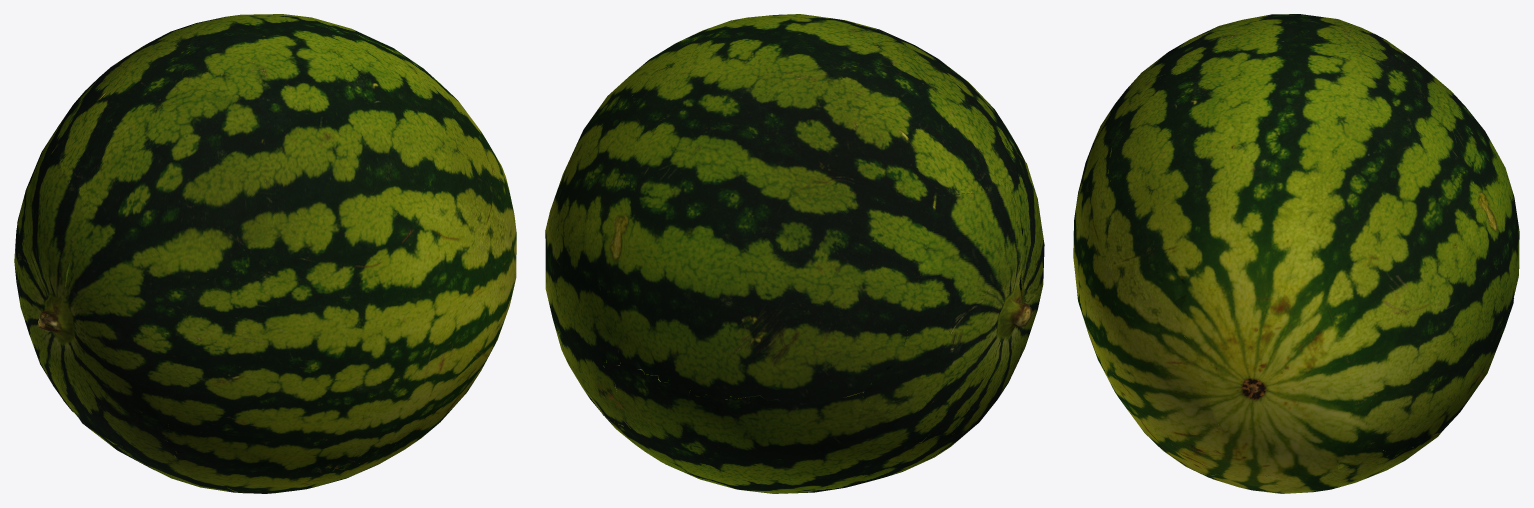
Rendered from watermelon.glb.
3 views of the same model, side by side, from view 1: azimuth 30°, elevation 25°; view 2: azimuth 150°, elevation 25°; view 3: azimuth 270°, elevation 25° (orthographic). The views are drawn at different scales.
Parts seen in each view (by area): view 1: Object_2; view 2: Object_2; view 3: Object_2.
Part boxes in pixels (x1,y1,x2,y2): Object_2: (14,14,516,493); Object_2: (545,14,1044,493); Object_2: (1073,14,1519,493).
Size of the model in its own units: 5.06 by 4.69 by 4.5.
Materials: 1 (1 with a texture image).
